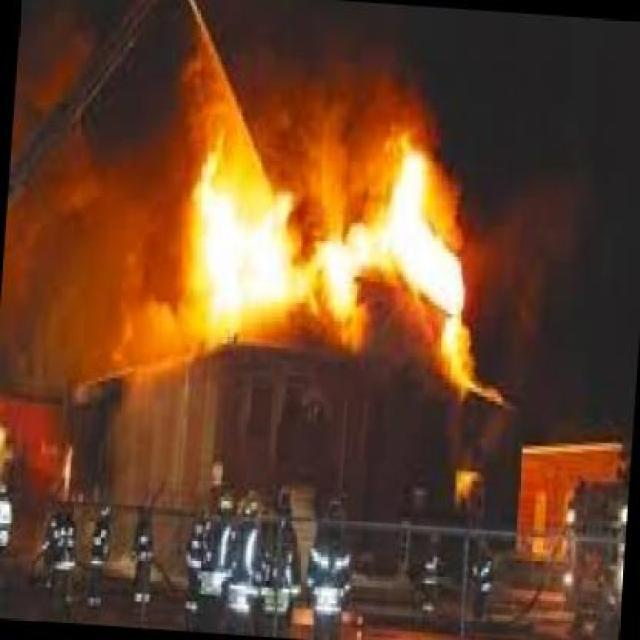Fire: (315, 144, 469, 326), (184, 112, 306, 334), (430, 324, 510, 402)
Smoke: (14, 29, 186, 370), (466, 144, 630, 326), (268, 52, 428, 144)
